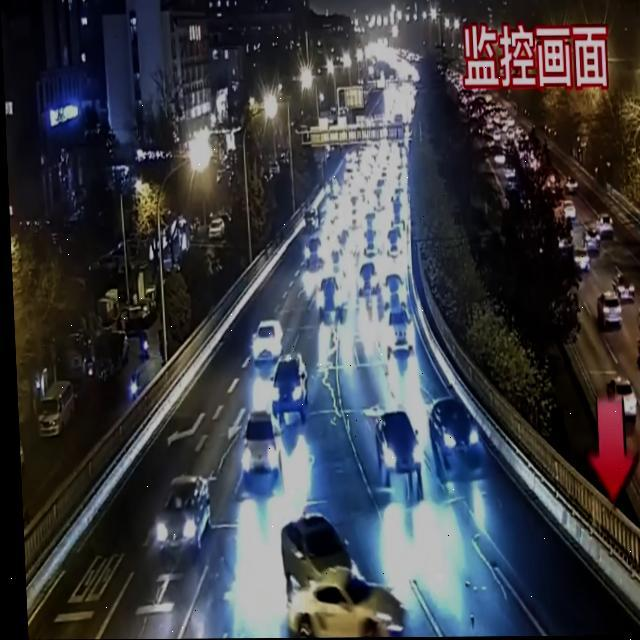multiple_accident: (272, 505, 408, 640)
normal: (133, 273, 318, 568), (367, 398, 508, 502)
